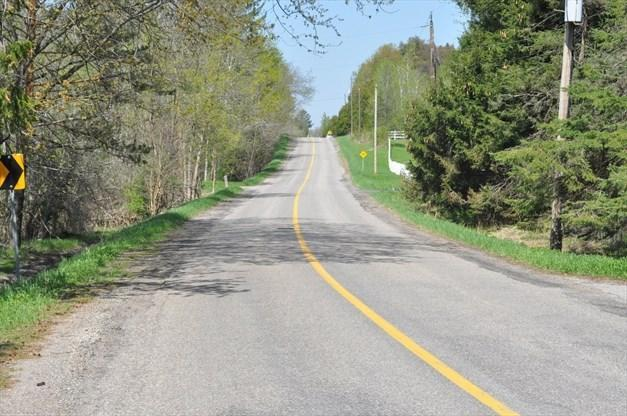indicator: (0, 150, 28, 192)
